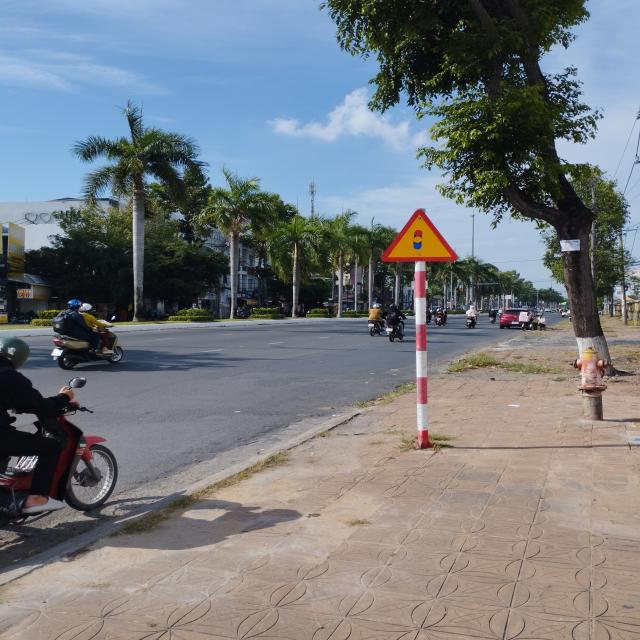Duong_Co_Go_Giam_Toc: (382, 210, 458, 261)
